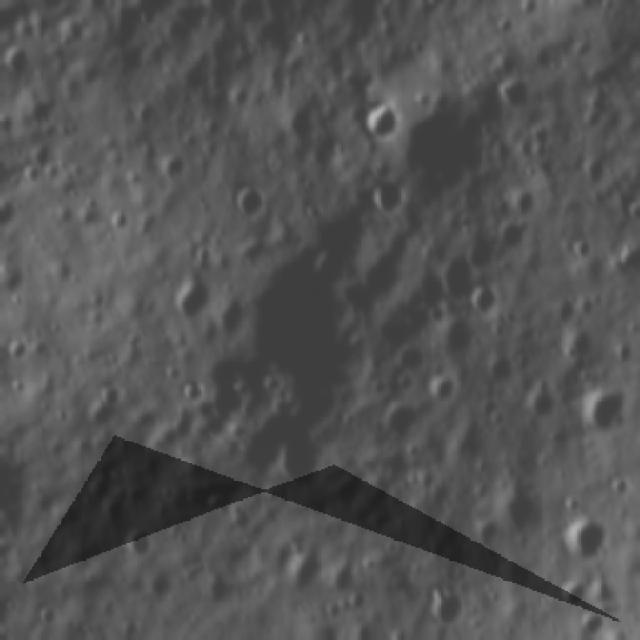crater: (221, 256, 359, 404), (205, 359, 257, 427), (274, 434, 326, 495), (498, 482, 547, 540), (232, 428, 283, 481), (558, 516, 612, 564), (431, 315, 480, 363), (281, 548, 328, 598), (85, 380, 124, 437), (583, 391, 626, 442), (440, 258, 477, 308), (282, 99, 321, 146), (15, 94, 56, 138), (424, 593, 471, 630), (158, 143, 196, 188), (230, 184, 272, 224), (495, 75, 534, 118), (173, 282, 212, 324), (519, 392, 559, 432), (361, 104, 397, 148), (368, 181, 404, 224), (378, 408, 418, 444), (327, 561, 359, 604), (482, 358, 520, 394), (555, 580, 597, 612), (82, 471, 115, 511), (492, 220, 530, 254), (566, 328, 599, 367), (464, 288, 504, 320), (0, 44, 32, 84), (424, 376, 459, 412), (460, 242, 498, 275), (121, 525, 150, 566), (578, 608, 616, 637), (508, 191, 540, 224), (549, 298, 580, 330), (104, 210, 136, 239), (472, 520, 498, 552), (19, 163, 46, 188), (493, 17, 516, 43)
